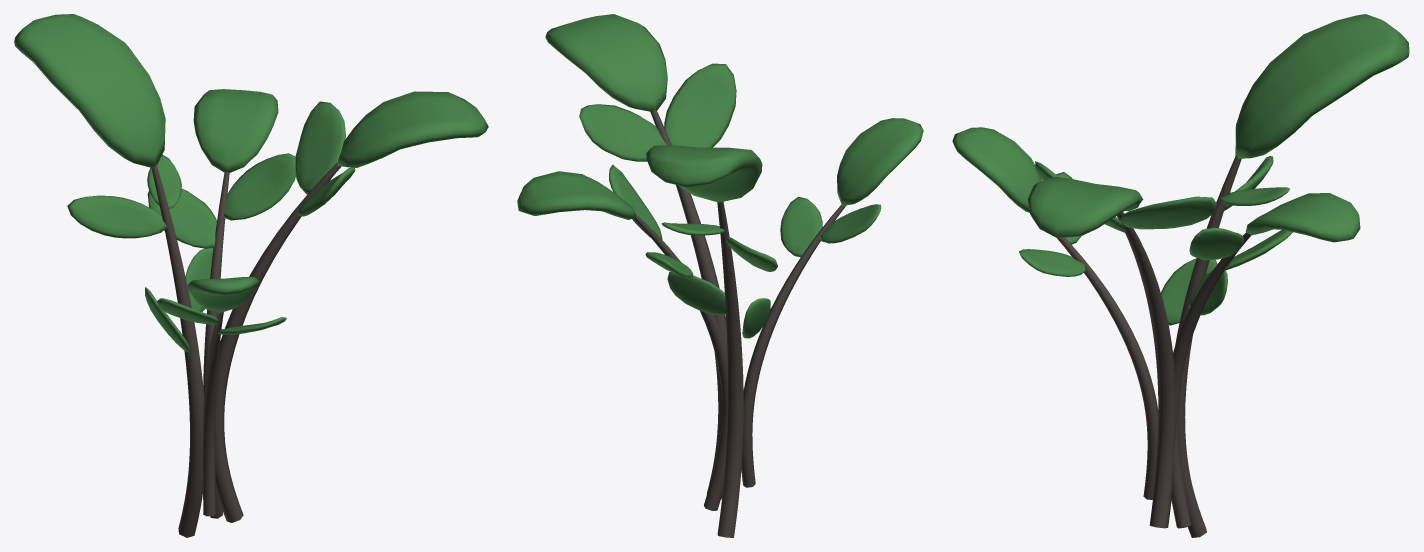
Rendered from plant 2.fbx.
The picture shows the model from 3 angles, left to right: view 1: azimuth 30°, elevation 25°; view 2: azimuth 150°, elevation 25°; view 3: azimuth 270°, elevation 25°; orthographic projection. The views are drawn at different scales.
Visible parts, largest first — view 1: Plant 2; view 2: Plant 2; view 3: Plant 2.
Boxes of the visible parts, <box> form: Plant 2: <box>14,14,488,537</box>; Plant 2: <box>517,14,923,537</box>; Plant 2: <box>952,14,1409,537</box>.
Bounding box in the file's own units: 68.99 × 79.82 × 59.2.
